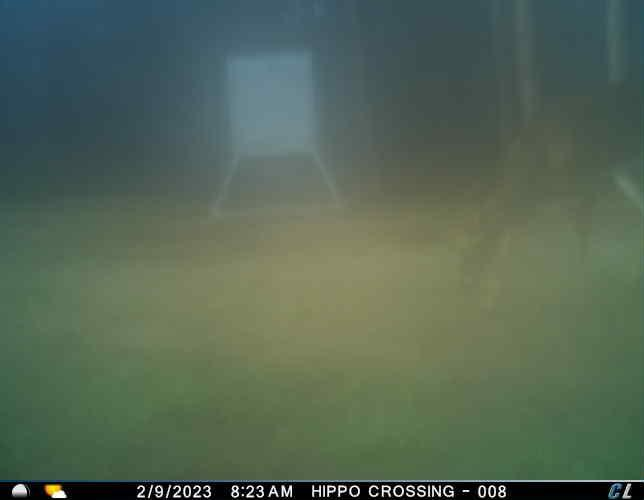Deer: (434, 69, 644, 323)
